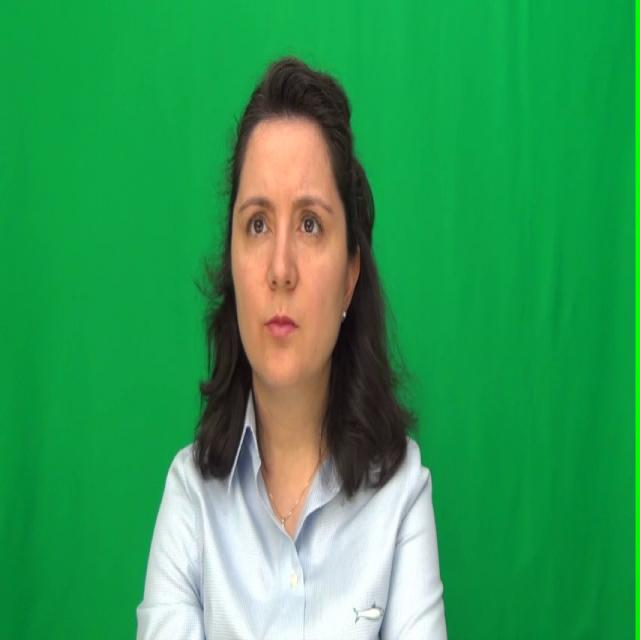Engaged: (238, 117, 346, 391)
